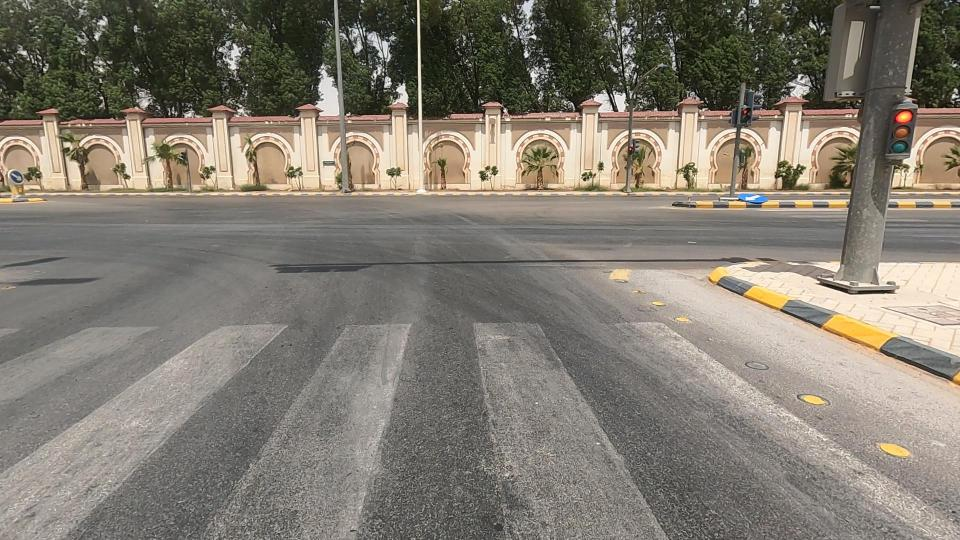BROKEN_SIGNAGE: (677, 162, 805, 234)
